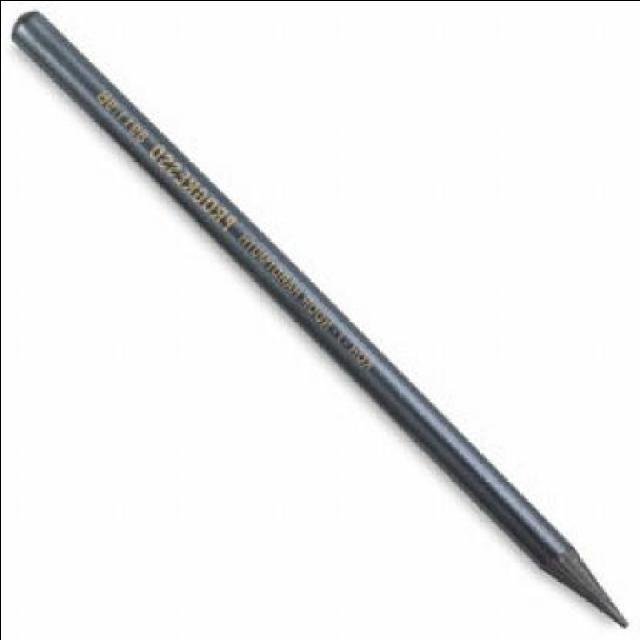pencil: (509, 499, 640, 630)
